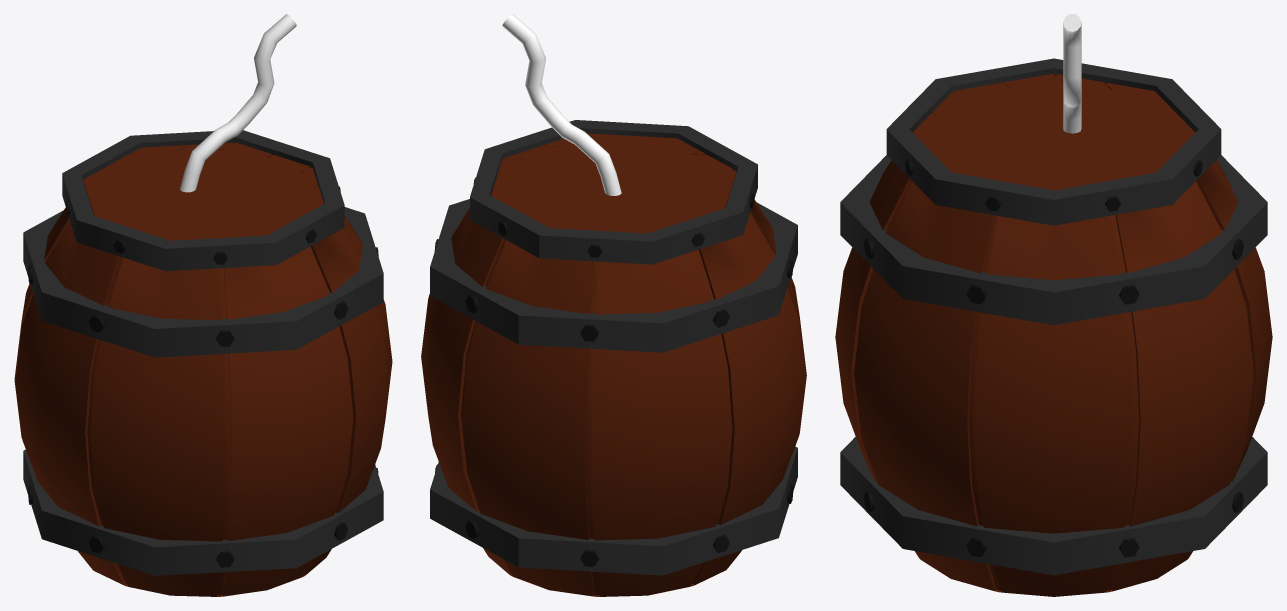
File: Explosivebarrel.fbx
3 views of the same model, side by side, from view 1: azimuth 30°, elevation 25°; view 2: azimuth 150°, elevation 25°; view 3: azimuth 270°, elevation 25° (orthographic). The views are drawn at different scales.
Parts seen in each view (by area): view 1: Cylinder004, Cylinder008, Box004, Box003, Box001, Line001, Cylinder007, Cylinder003; view 2: Cylinder004, Cylinder008, Box004, Box003, Box001, Line001, Cylinder007, Cylinder003, Cylinder006; view 3: Cylinder004, Cylinder008, Box004, Box003, Box001, Line001, Cylinder007, Cylinder003, Cylinder006.
Part boxes in pixels (x1=…): Cylinder004: x1=14, y1=144, x2=392, y2=596; Cylinder008: x1=83, y1=142, x2=322, y2=240; Box004: x1=23, y1=207, x2=383, y2=357; Box003: x1=62, y1=130, x2=344, y2=271; Box001: x1=23, y1=449, x2=383, y2=575; Line001: x1=180, y1=14, x2=296, y2=192; Cylinder007: x1=28, y1=247, x2=378, y2=346; Cylinder003: x1=28, y1=468, x2=378, y2=567; Cylinder004: x1=421, y1=145, x2=806, y2=596; Cylinder008: x1=492, y1=133, x2=736, y2=233; Box004: x1=430, y1=199, x2=797, y2=352; Box003: x1=470, y1=120, x2=757, y2=264; Box001: x1=430, y1=446, x2=797, y2=575; Line001: x1=502, y1=14, x2=621, y2=195; Cylinder007: x1=434, y1=239, x2=793, y2=341; Cylinder003: x1=435, y1=464, x2=793, y2=566; Cylinder006: x1=473, y1=177, x2=754, y2=257; Cylinder004: x1=835, y1=76, x2=1272, y2=596; Cylinder008: x1=912, y1=73, x2=1195, y2=190; Box004: x1=840, y1=155, x2=1267, y2=325; Box003: x1=886, y1=58, x2=1221, y2=225; Box001: x1=840, y1=437, x2=1267, y2=575; Line001: x1=1063, y1=14, x2=1081, y2=133; Cylinder007: x1=864, y1=238, x2=1243, y2=304; Cylinder003: x1=864, y1=491, x2=1243, y2=557; Cylinder006: x1=905, y1=159, x2=1202, y2=211.
Bounding box in the file's own units: 10.05 × 14.53 × 10.05.
